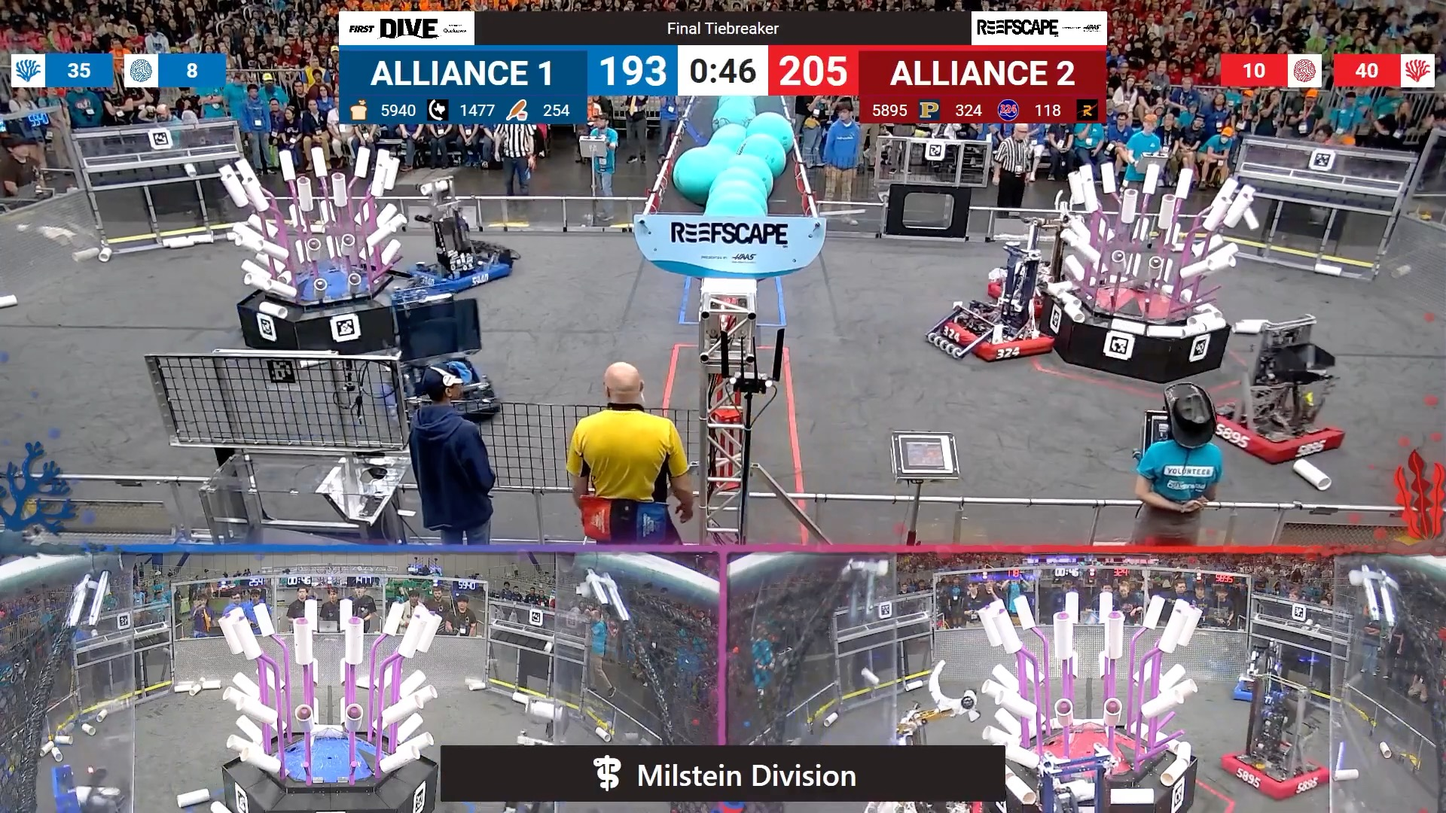bumpers: (1202, 398, 1352, 469), (934, 310, 1069, 368), (373, 365, 502, 424), (1213, 747, 1334, 801), (403, 251, 521, 296), (988, 262, 1081, 309), (1226, 679, 1291, 704)
